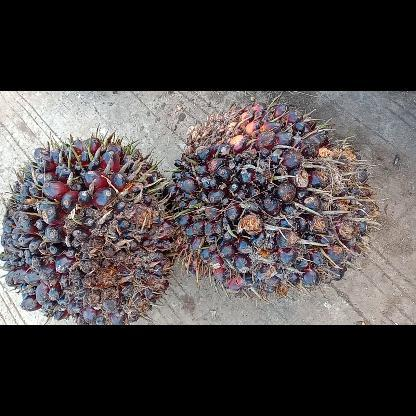TBS mentah: (169, 103, 379, 291), (0, 136, 176, 324)
